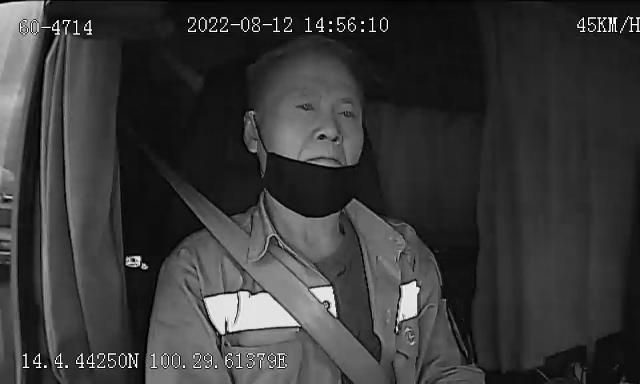SafeDriving: (330, 98, 362, 126), (290, 94, 322, 119)
Seatbelt: (135, 131, 401, 384)
